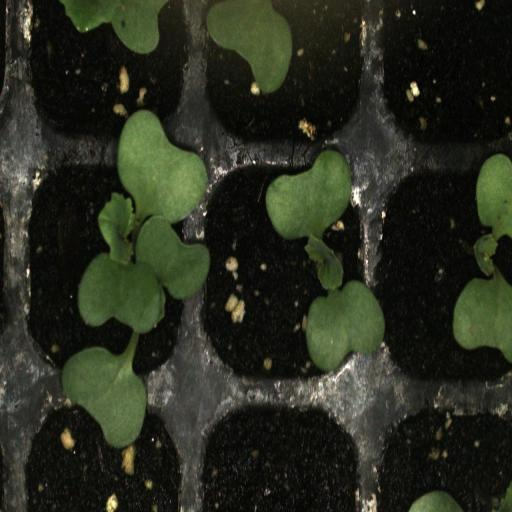seedling: (194, 149, 371, 396), (371, 148, 512, 391)
twoseedling: (14, 150, 192, 388)
